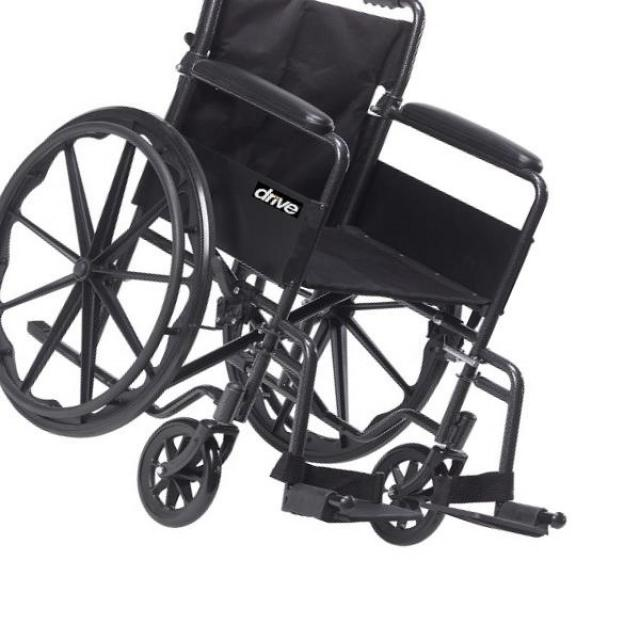wheelchair: (2, 0, 570, 549)
